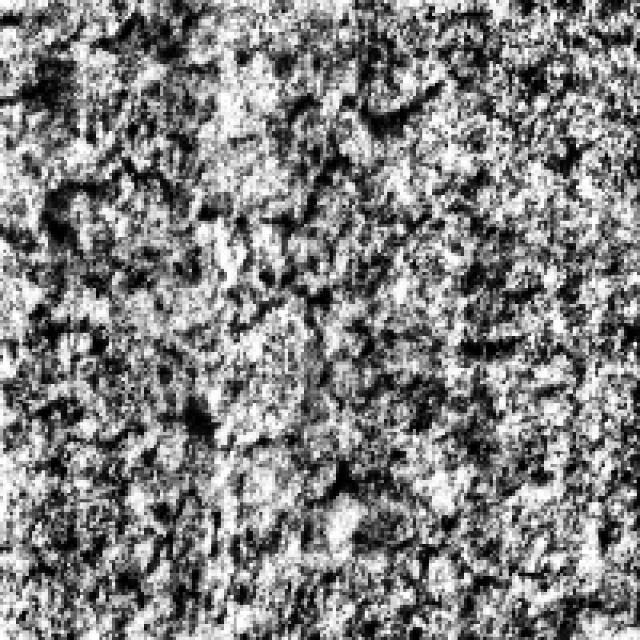Pitted_Surface: (32, 157, 515, 557), (7, 6, 470, 176)
